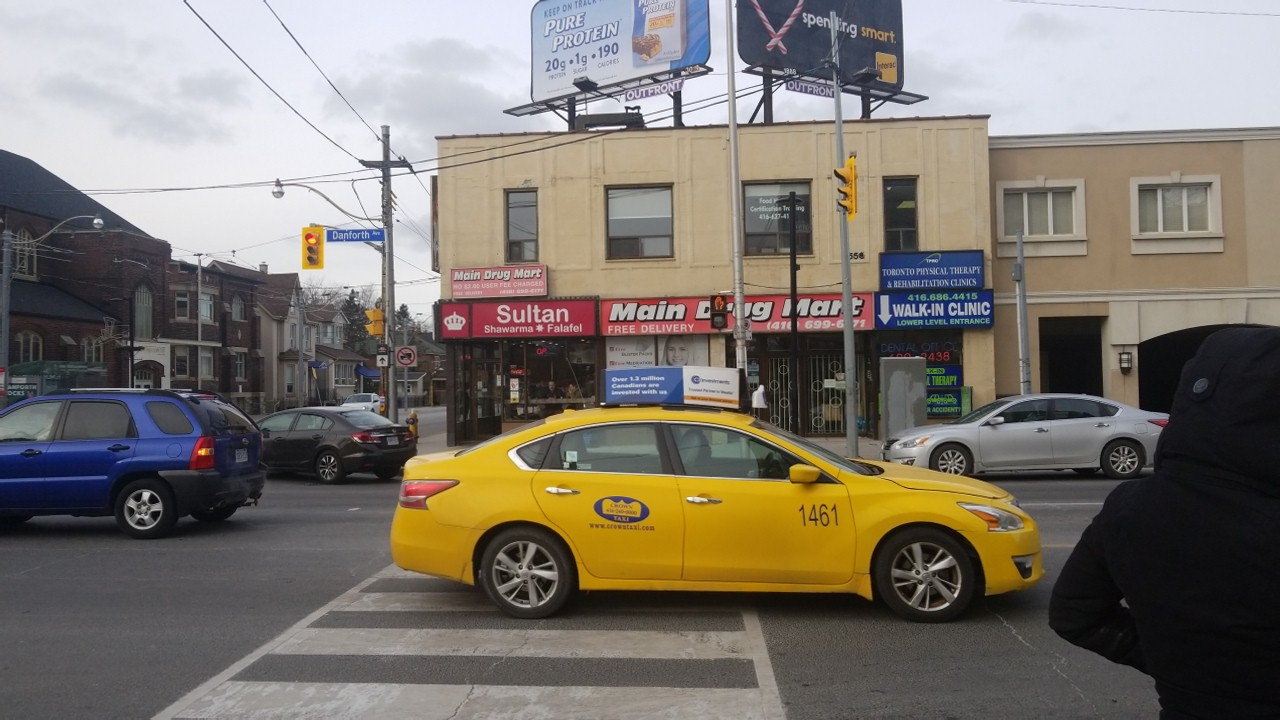light: (707, 292, 729, 330)
